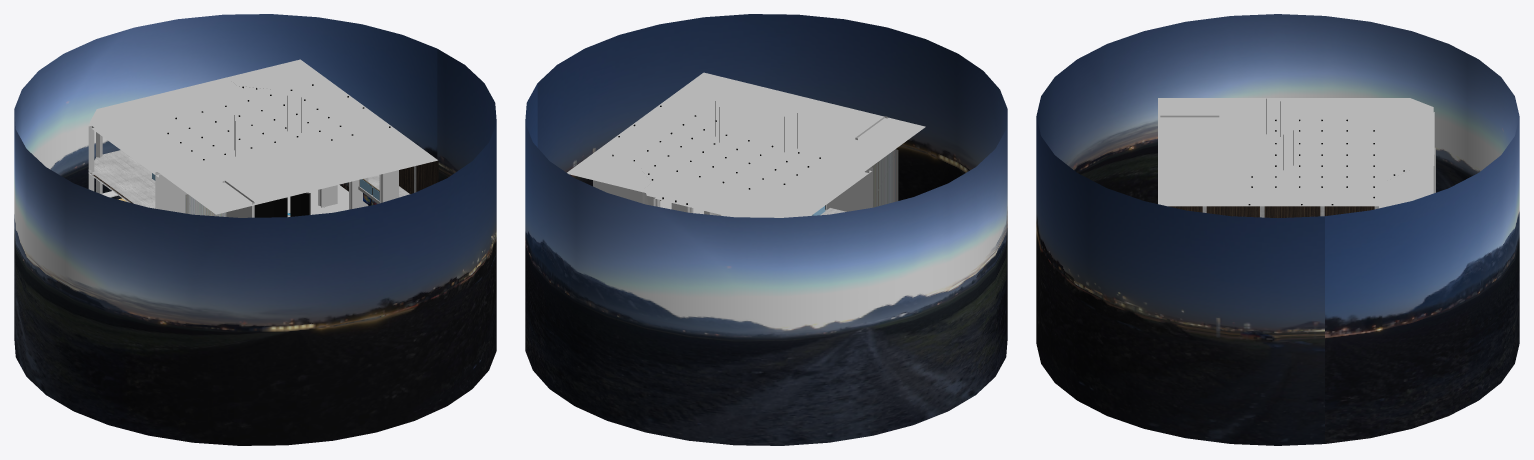
File: projectbake.gltf
3 renders of one model, left to right at view 1: azimuth 30°, elevation 25°; view 2: azimuth 150°, elevation 25°; view 3: azimuth 270°, elevation 25°, orthographic.
Visible parts, largest first — view 1: env_cyl, ceiling, level1_left002, Walls_L003, columns, right_wall003, floor-main002, panel_Blue_center002; view 2: env_cyl, ceiling, Walls_L003, Walls_L002; view 3: env_cyl, ceiling, right_wall003.
Part boxes in pixels (box(x1,y1,x2,y2)): env_cyl: box(14, 14, 496, 445); ceiling: box(88, 59, 437, 214); level1_left002: box(89, 150, 155, 208); Walls_L003: box(88, 126, 254, 217); columns: box(318, 170, 398, 209); right_wall003: box(339, 160, 438, 205); floor-main002: box(287, 185, 348, 214); panel_Blue_center002: box(254, 198, 287, 217); env_cyl: box(525, 14, 1007, 445); ceiling: box(567, 72, 925, 217); Walls_L003: box(644, 116, 887, 212); Walls_L002: box(871, 149, 898, 207); env_cyl: box(1036, 14, 1519, 445); ceiling: box(1158, 98, 1434, 208); right_wall003: box(1168, 206, 1374, 217).
Size of the model in its own units: 40.81 by 21.7 by 40.81.
